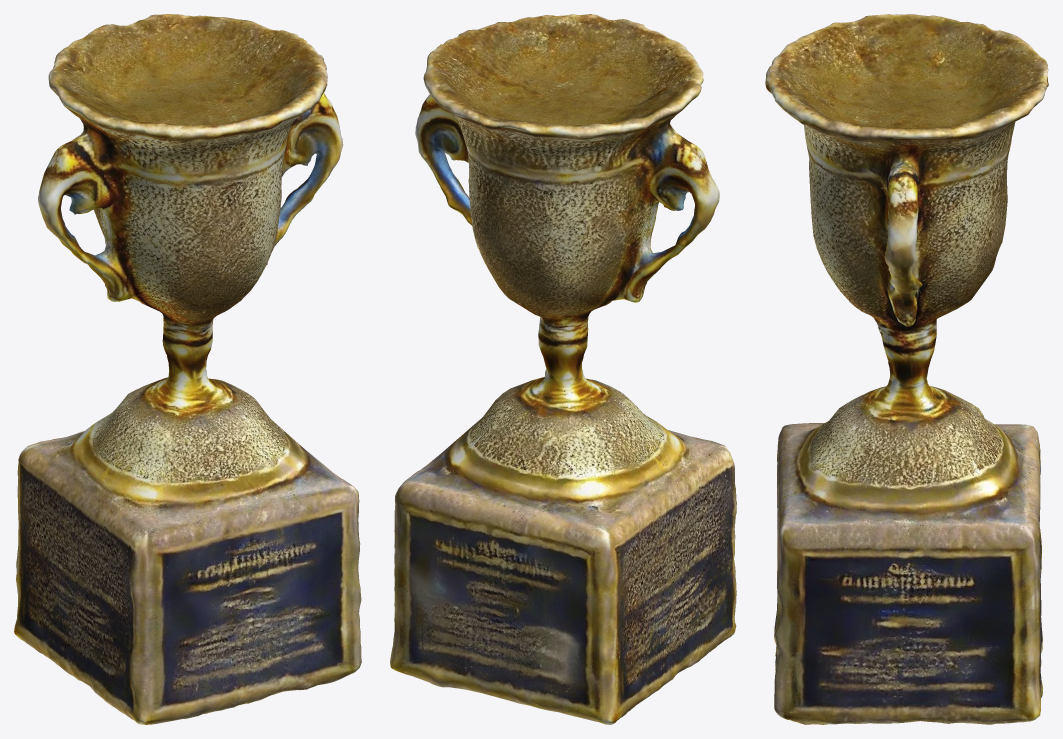
The model's file is gold_trophy.glb.
3 renders of one model, left to right at view 1: azimuth 30°, elevation 25°; view 2: azimuth 150°, elevation 25°; view 3: azimuth 270°, elevation 25°, orthographic. The views are drawn at different scales.
Parts seen in each view (by area): view 1: model_0; view 2: model_0; view 3: model_0.
Part boxes in pixels (<box>): model_0: <box>14,14,361,724</box>; model_0: <box>390,14,736,724</box>; model_0: <box>765,14,1048,724</box>.
Size of the model in its own units: 0.8763 by 1.67 by 0.7044.
Materials: 1 (1 with a texture image).
